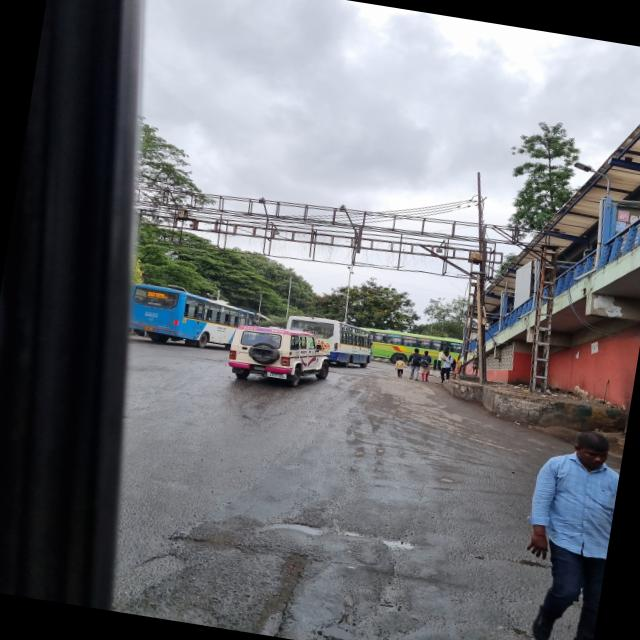bus: (124, 277, 250, 351), (276, 309, 382, 370)
display: (146, 290, 170, 301)
dnumber: (146, 290, 156, 296)
